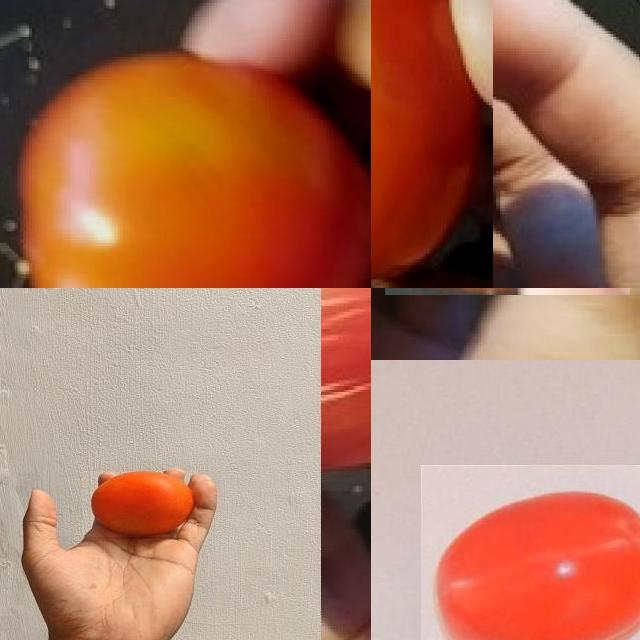Fresh Tomato: (0, 0, 371, 288), (420, 464, 640, 640), (371, 0, 493, 288), (82, 472, 197, 538)
